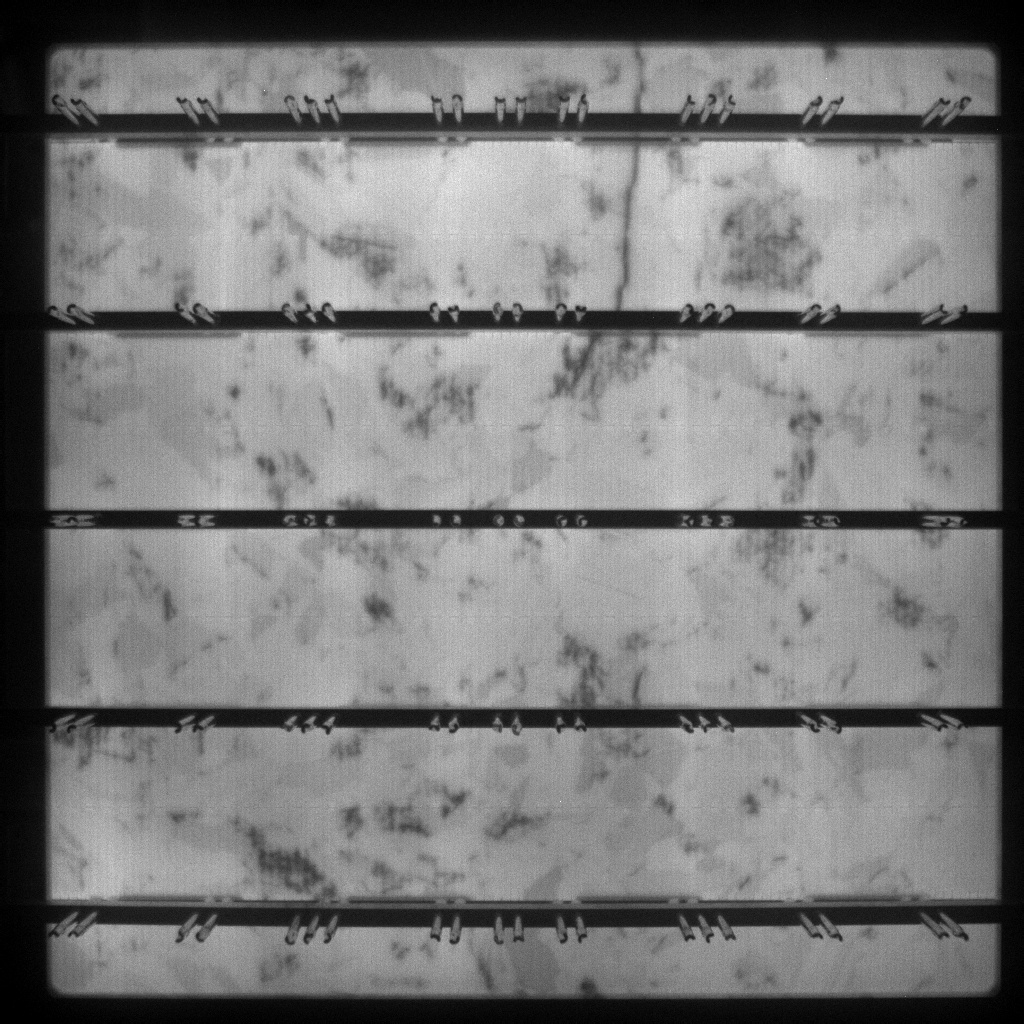crack: (613, 149, 641, 310)
